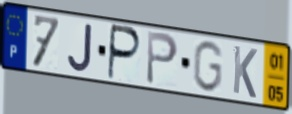7: (31, 13, 61, 70)
G: (191, 39, 225, 95)
J: (66, 22, 94, 74)
K: (231, 44, 259, 102)
P: (106, 22, 143, 82), (145, 30, 180, 87)
